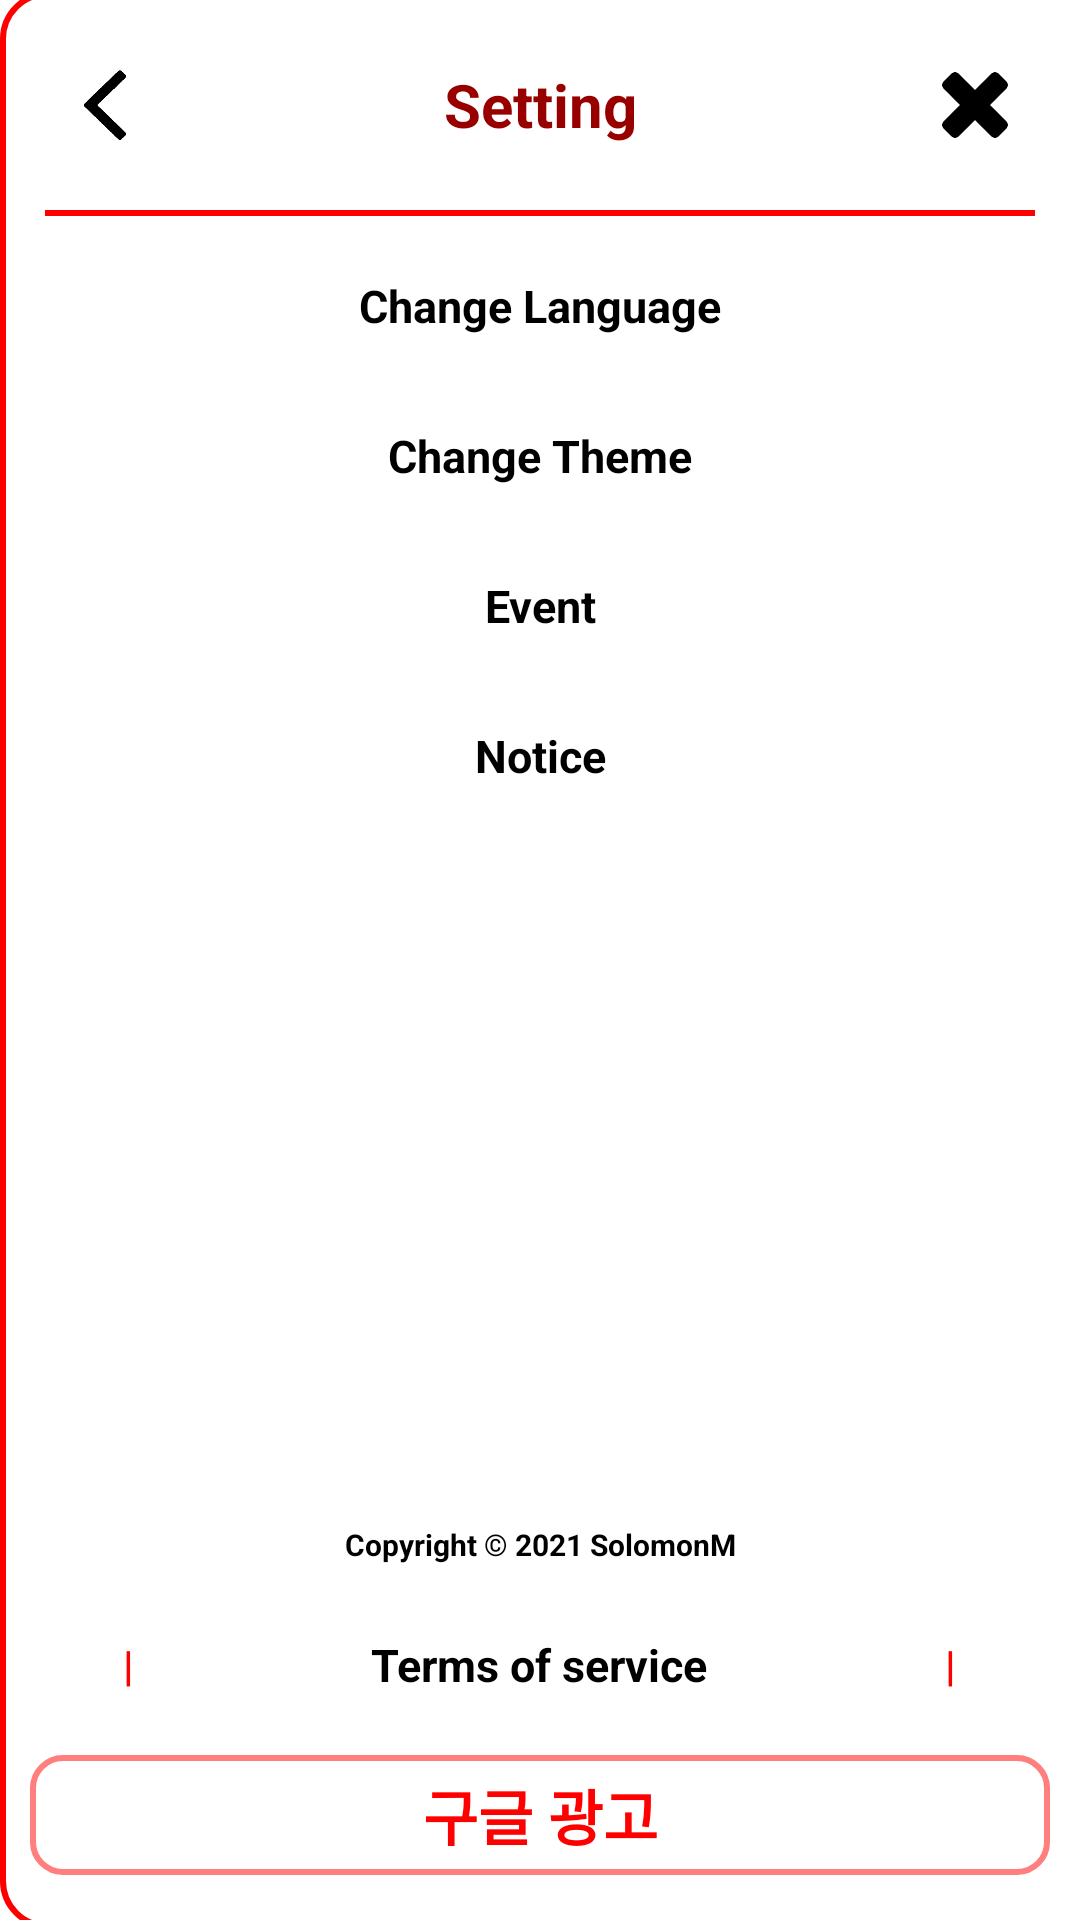

Where icons sit on this 1080*1920 app screen, as (x1, y1, x2, y2):
arrow left: (84, 70, 126, 140)
close: (942, 72, 1008, 138)
